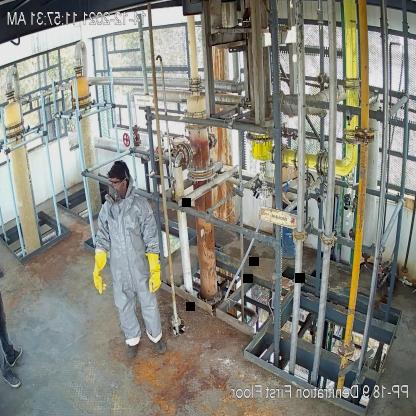mask: (104, 184, 121, 207)
